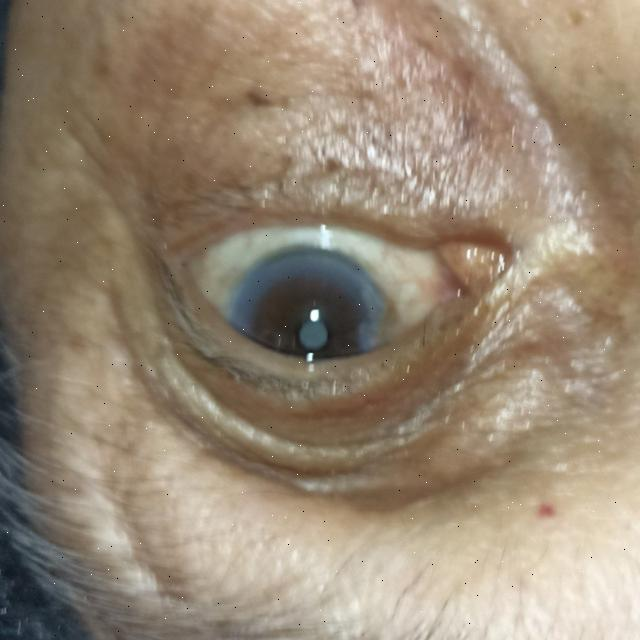Cataract: (232, 246, 388, 391)
